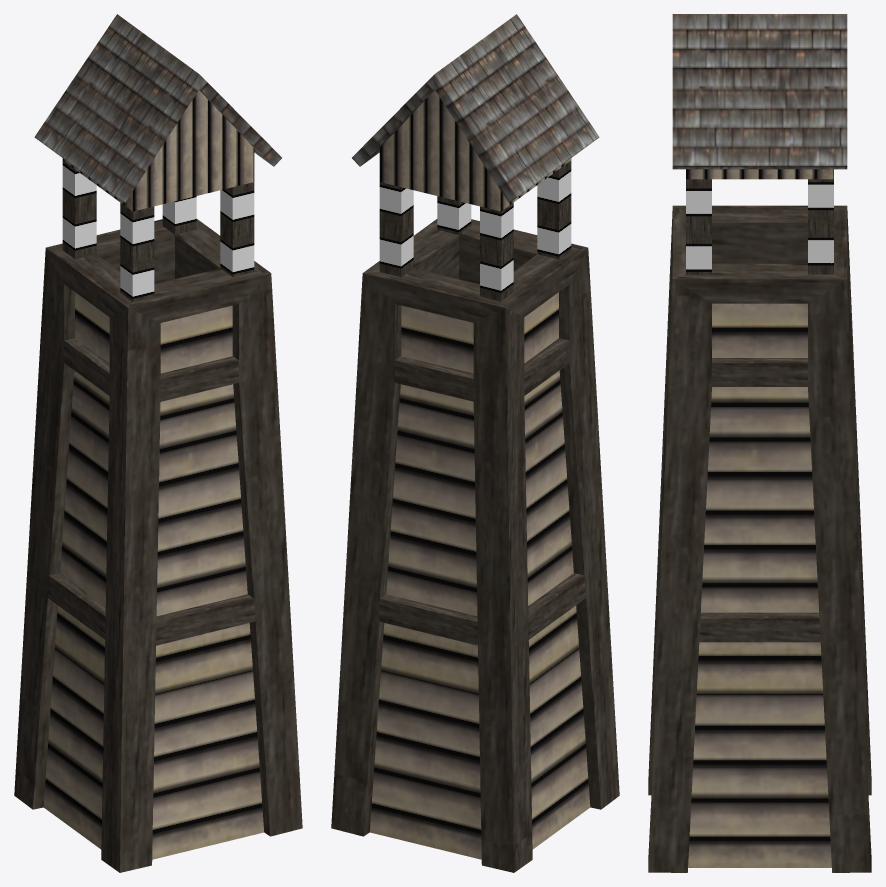
Rendered from outpost.DAE.
The picture shows the model from 3 angles, left to right: view 1: azimuth 30°, elevation 25°; view 2: azimuth 150°, elevation 25°; view 3: azimuth 270°, elevation 25°; orthographic projection. The views are drawn at different scales.
Parts seen in each view (by area): view 1: Box002; view 2: Box002; view 3: Box002.
Boxes of the visible parts, left/top/right/bottom form: Box002: left=14, top=14, right=302, bottom=872; Box002: left=331, top=14, right=619, bottom=872; Box002: left=648, top=14, right=871, bottom=872.
Bounding box in the file's own units: 17 × 17 × 68.27.
